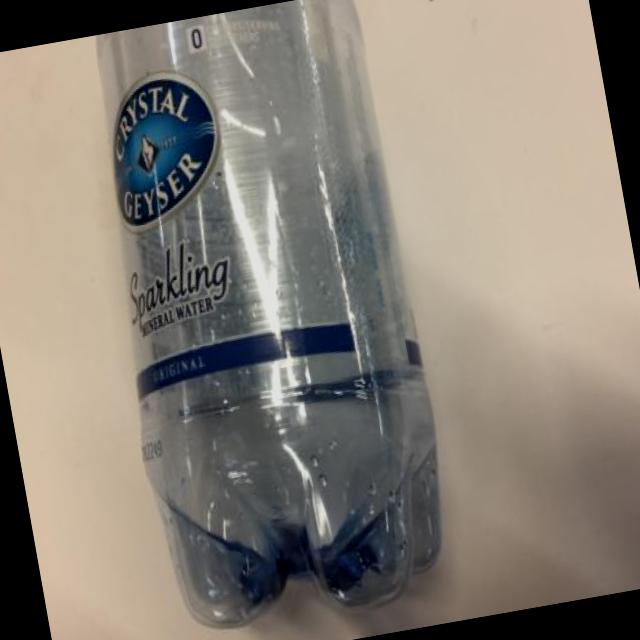Recycle: (64, 0, 467, 640)
